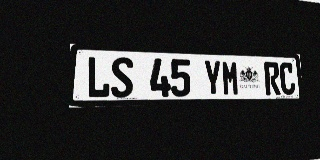4: (150, 58, 171, 97)
5: (171, 59, 191, 97)
C: (279, 62, 296, 95)
L: (86, 56, 110, 98)
M: (221, 60, 240, 96)
R: (264, 62, 281, 95)
S: (111, 57, 133, 98)
Y: (203, 60, 222, 96)
